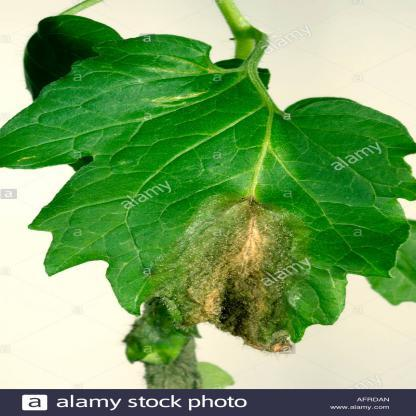Tomato mold leaf: (0, 34, 412, 364)
